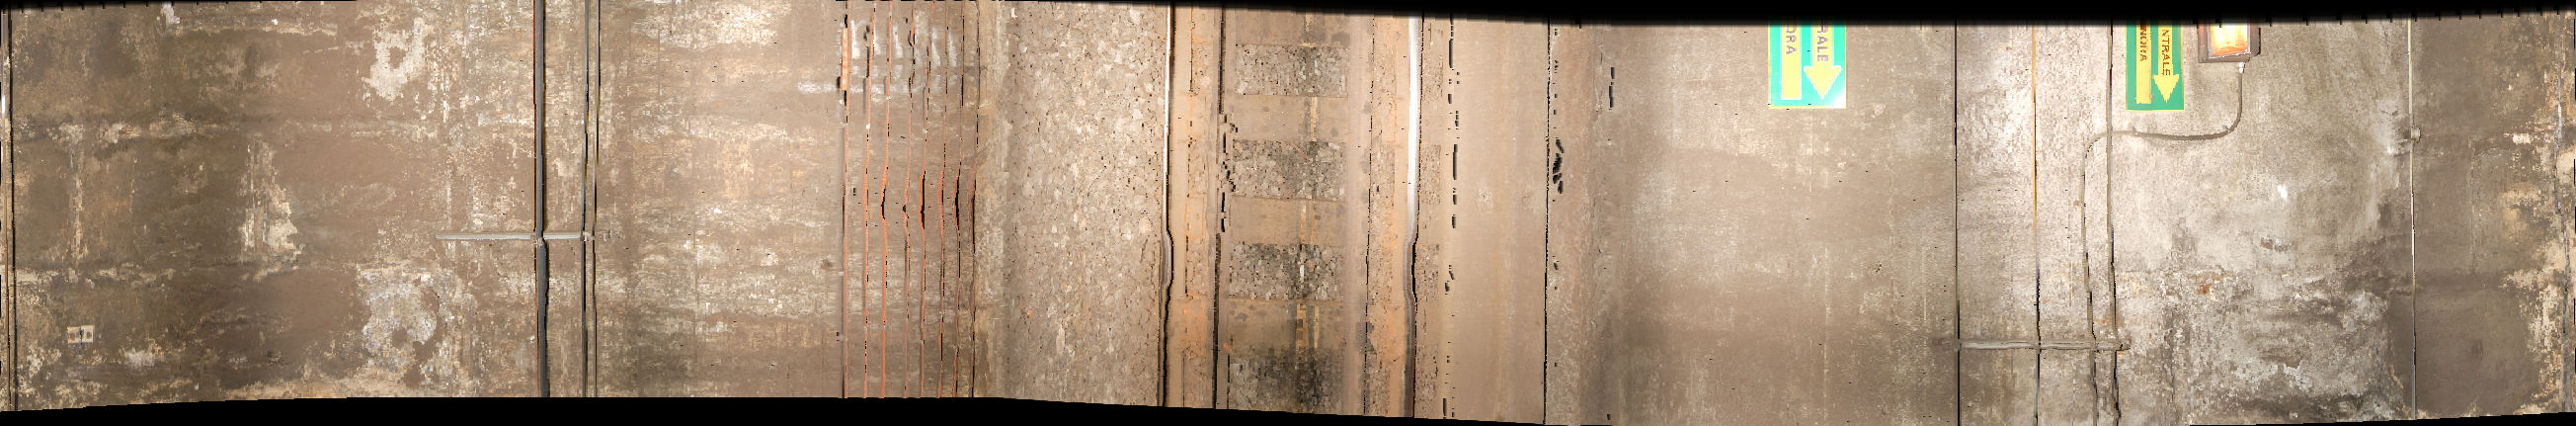light: (2198, 21, 2262, 66)
pipes: (839, 12, 987, 426), (531, 2, 611, 426), (1939, 26, 1973, 426), (2026, 28, 2045, 426)
sign: (1766, 21, 1842, 110), (2126, 21, 2187, 118)
tracks: (1158, 8, 1459, 426)
